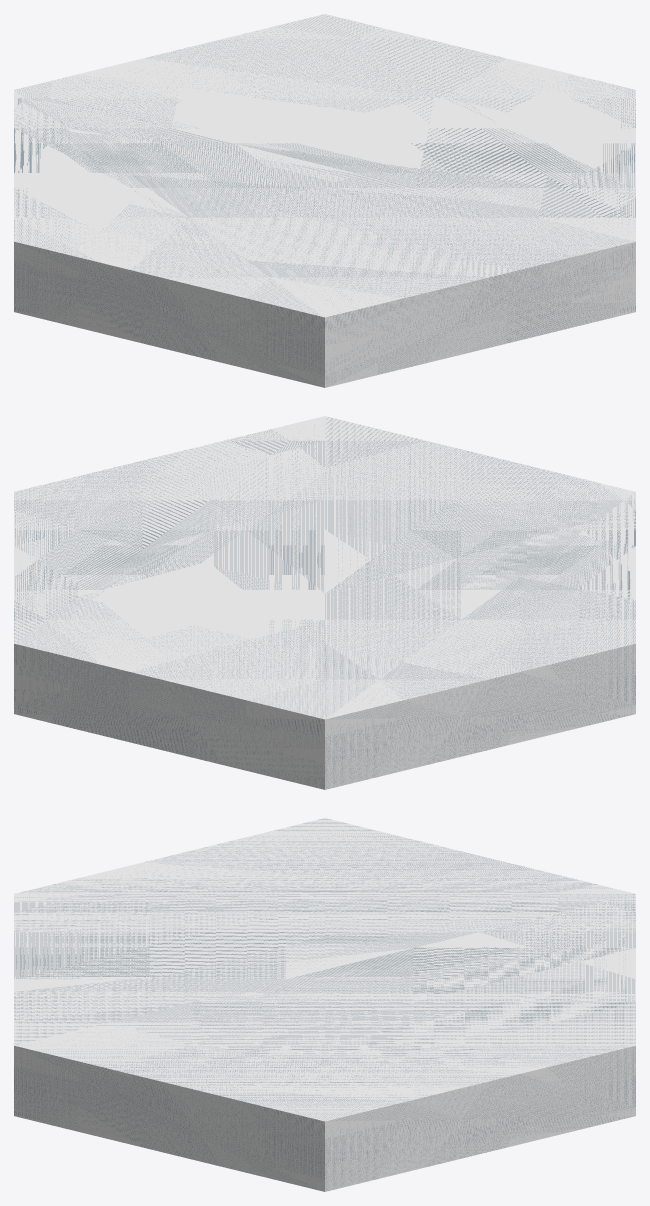
The model's file is Nut.fbx.
3 views of the same model, one above another, from view 1: azimuth 30°, elevation 25°; view 2: azimuth 150°, elevation 25°; view 3: azimuth 270°, elevation 25° (orthographic).
Visible parts, largest first — view 1: Model; view 2: Model; view 3: Model.
Boxes of the visible parts, <box> form: Model: <box>14,14,635,387</box>; Model: <box>14,416,635,789</box>; Model: <box>14,818,635,1191</box>.
Bounding box in the file's own units: 4.62 × 0.5 × 4.
